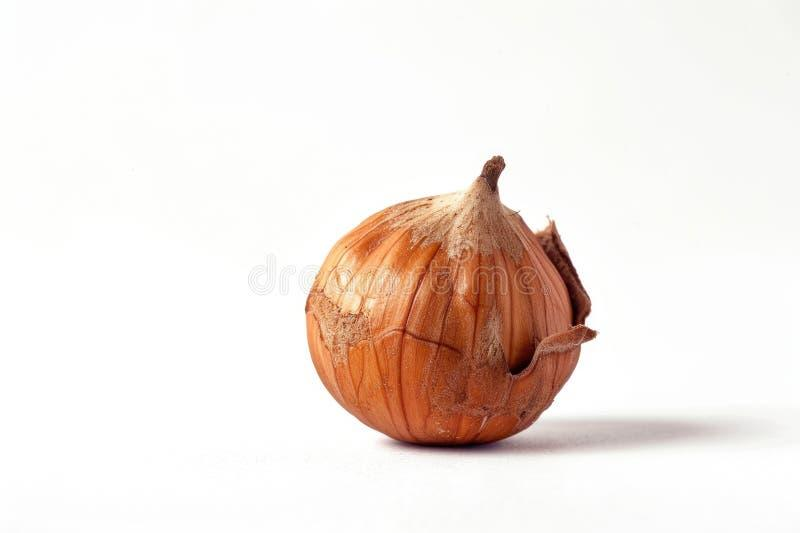Onion: (306, 156, 595, 443)
